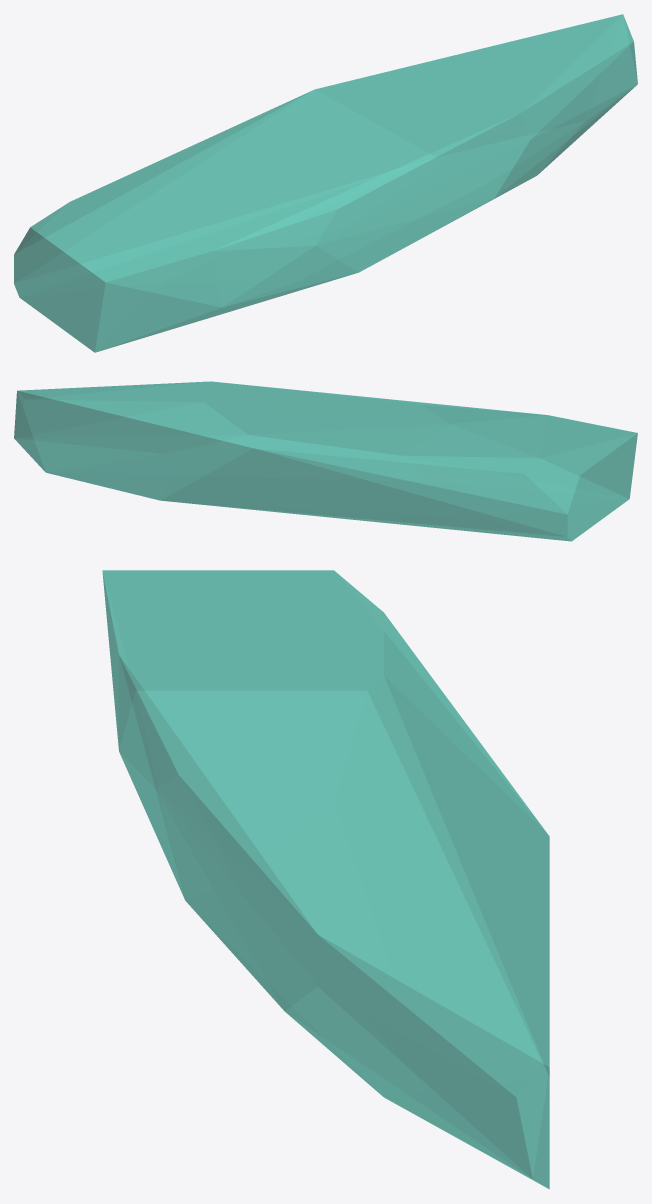
The picture shows the model from 3 angles, top to bottom: view 1: azimuth 30°, elevation 25°; view 2: azimuth 150°, elevation 25°; view 3: azimuth 270°, elevation 25°; orthographic projection. The views are drawn at different scales.
Parts seen in each view (by area): view 1: Shape_IndexedFaceSet.016_Shape_IndexedFaceSet.5892; view 2: Shape_IndexedFaceSet.016_Shape_IndexedFaceSet.5892; view 3: Shape_IndexedFaceSet.016_Shape_IndexedFaceSet.5892.
Boxes of the visible parts, x1,y1,x2,y2 form: Shape_IndexedFaceSet.016_Shape_IndexedFaceSet.5892: [14, 14, 637, 352]; Shape_IndexedFaceSet.016_Shape_IndexedFaceSet.5892: [14, 381, 637, 541]; Shape_IndexedFaceSet.016_Shape_IndexedFaceSet.5892: [102, 570, 549, 1189].
Size of the model in its own units: 0.196 by 0.0272 by 0.0735.
